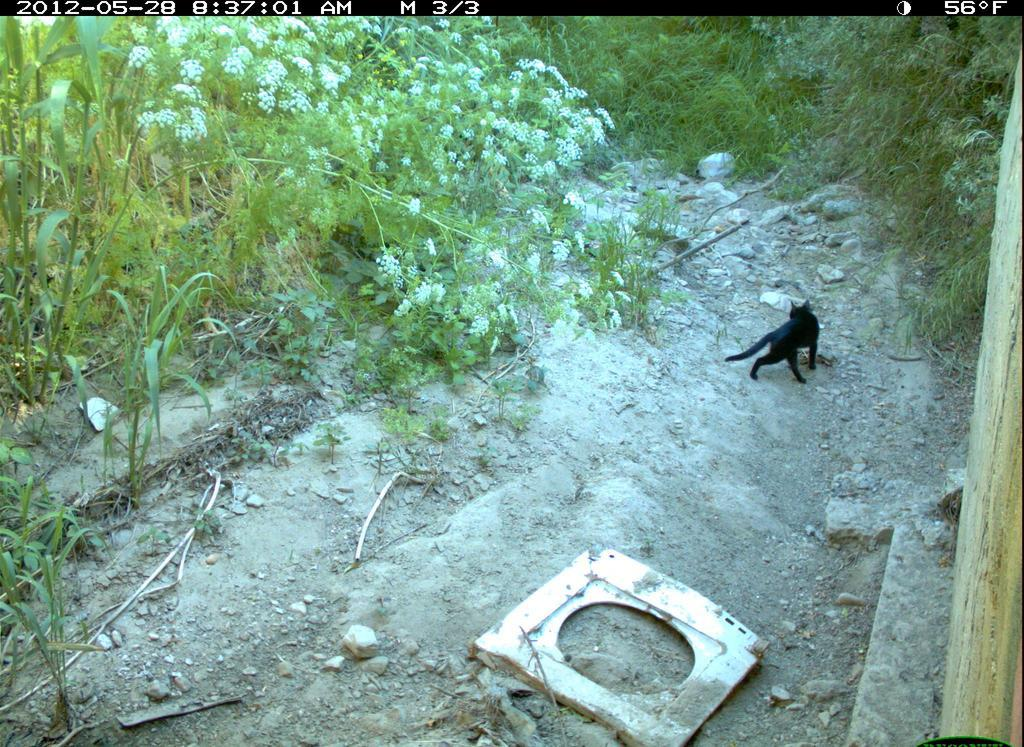cat: (717, 299, 835, 392)
